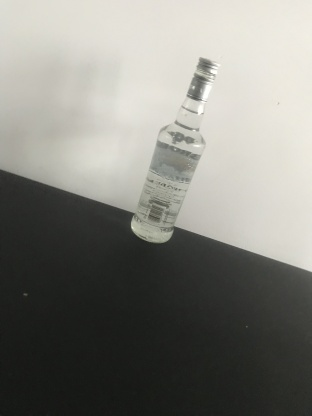nakretka: (185, 54, 221, 102)
